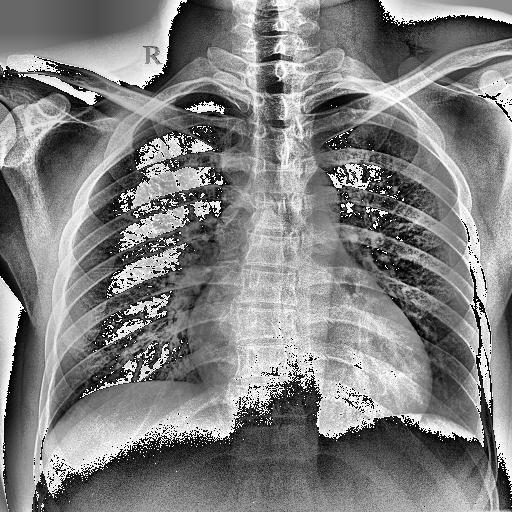3- Cardiomegaly: (170, 252, 446, 434), (172, 258, 438, 438), (176, 274, 443, 418)
